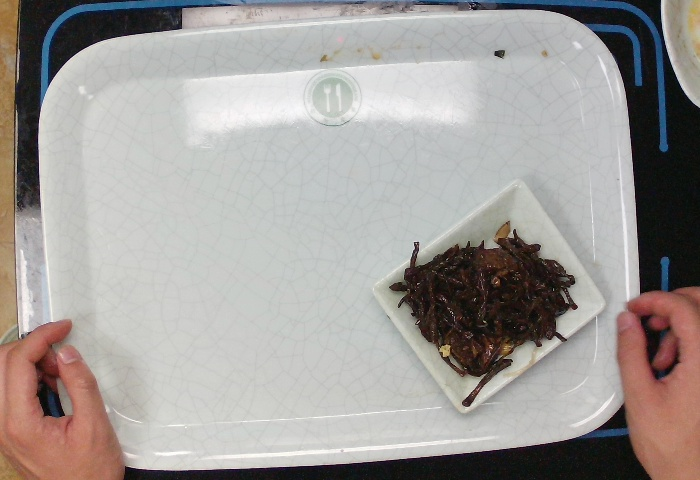WCQzf-Ru_Ci_Si_Fang_Die: (367, 179, 603, 414)
